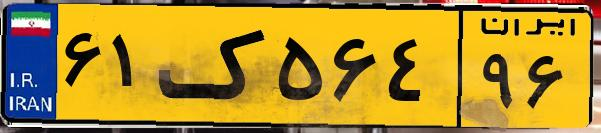1: (110, 28, 158, 98)
4: (385, 28, 445, 110)
5: (270, 28, 330, 110)
6: (330, 28, 385, 110), (57, 26, 110, 100), (525, 38, 570, 115)
9: (475, 38, 525, 113)
ک: (158, 12, 270, 120)
